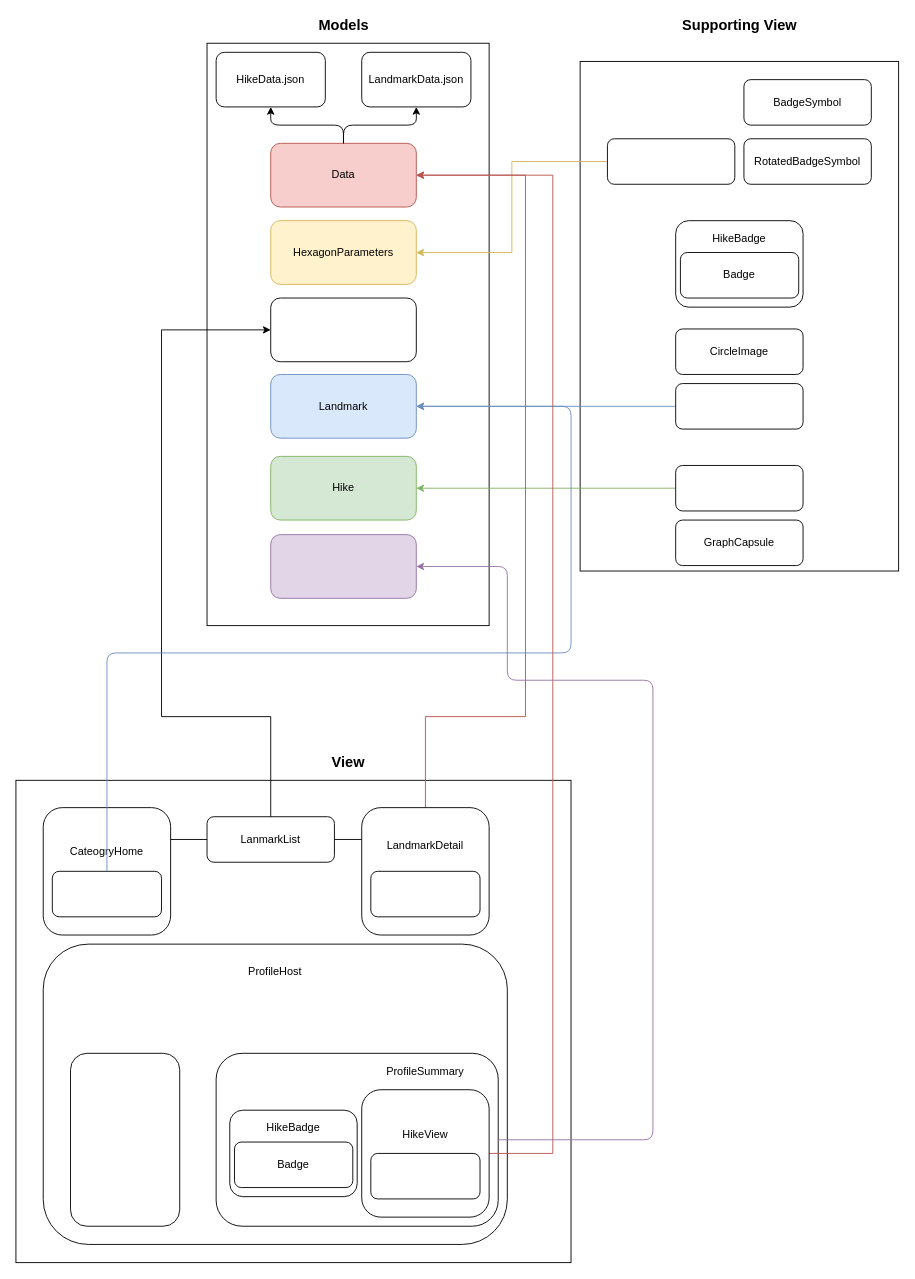
The diagram is 915 pixels wide and 1279 high, and some of its shapes have lost their labels. The shapes that lost their labels are listed below. From the top down, each one's centre as x and y in pixels, then its label:
(x=671, y=161): BadgeBackground
(x=343, y=329): UserData
(x=739, y=406): LandmarkRow
(x=739, y=488): HikeGraph
(x=343, y=566): Profile
(x=106, y=893): CategoryRow
(x=425, y=893): MapView
(x=125, y=1139): ProfileEditor
(x=425, y=1176): HikeDetail
